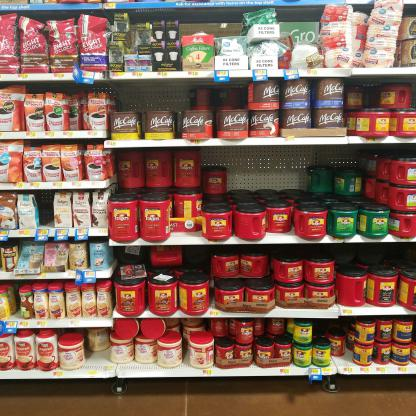Void: (231, 150, 303, 193), (113, 86, 184, 110), (87, 332, 108, 364), (314, 152, 357, 165), (39, 194, 54, 231), (188, 250, 209, 272), (317, 321, 344, 332)
